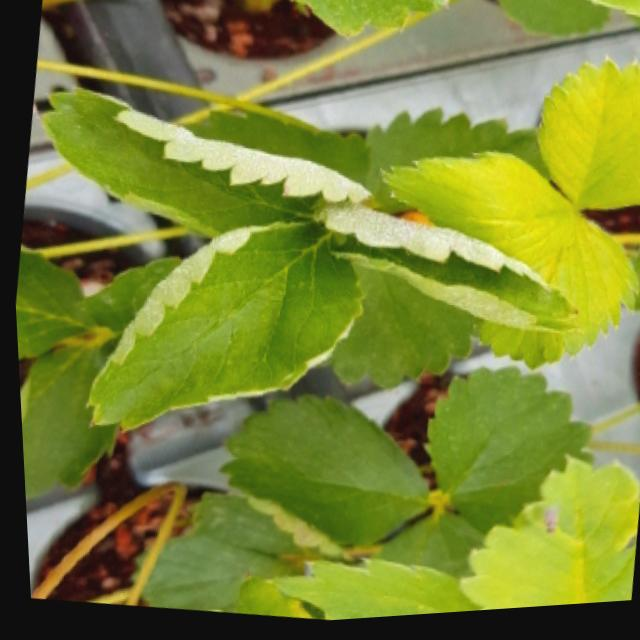Powdery Mildew Leaf: (80, 223, 361, 438), (32, 86, 371, 243), (311, 206, 576, 343), (451, 461, 636, 617)
